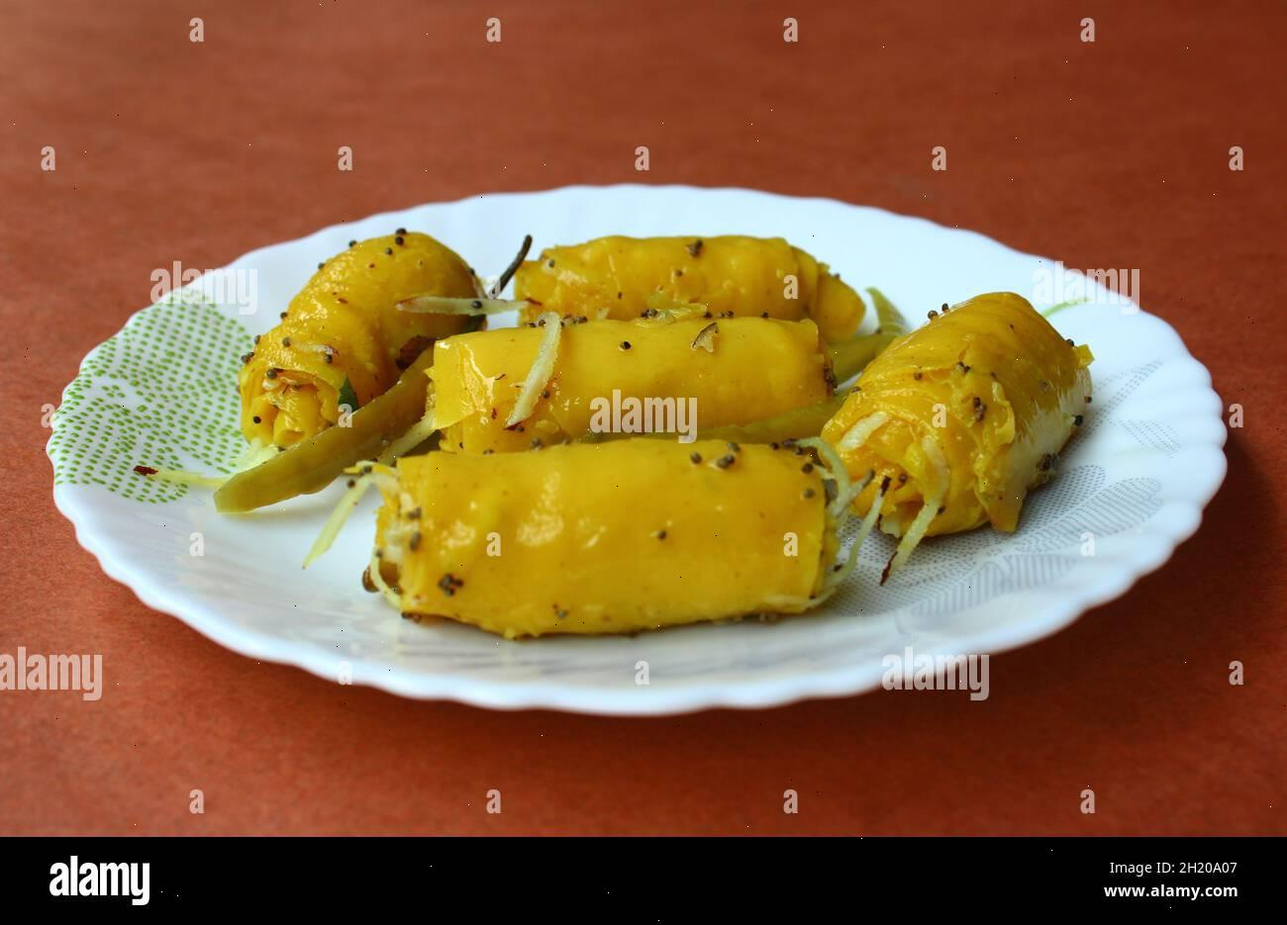khandvi: (243, 232, 1148, 623)
